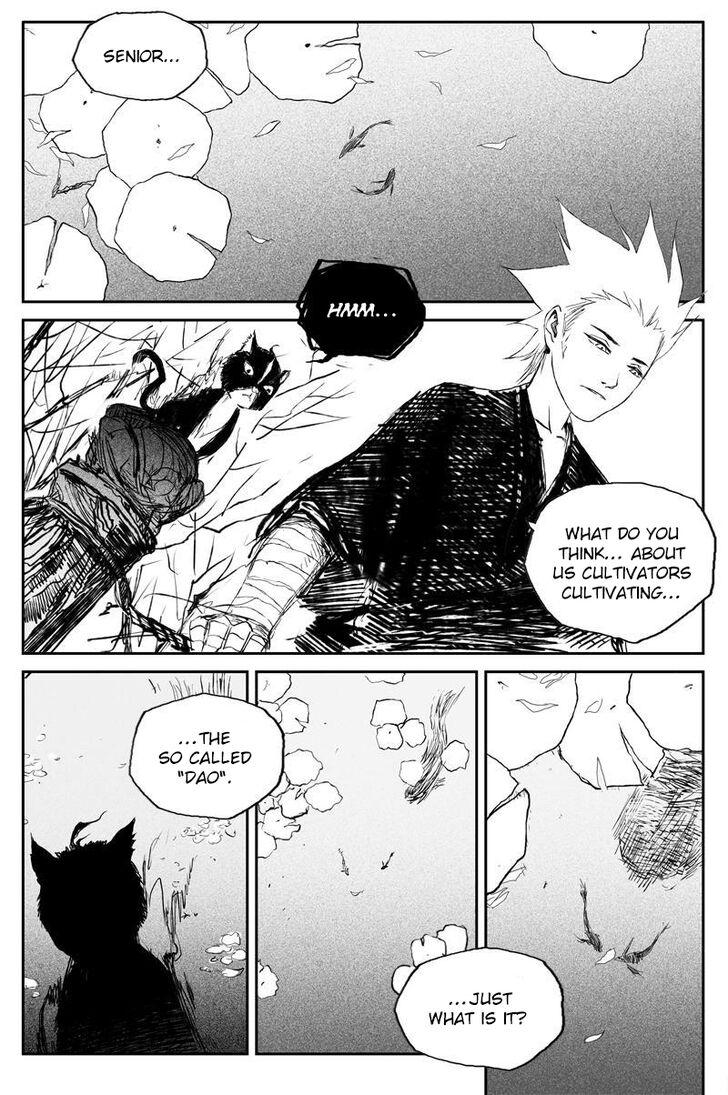Bubble: (523, 481, 717, 645), (393, 945, 566, 1072), (127, 692, 287, 823), (294, 256, 427, 365), (70, 10, 209, 101)
